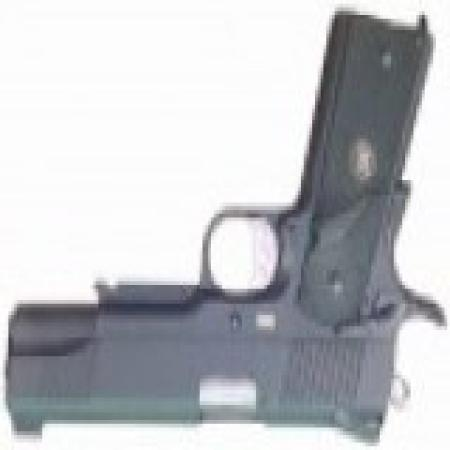Pistol: (11, 19, 439, 447)
